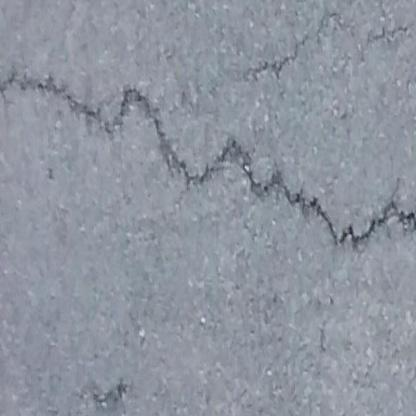Cracks: (0, 64, 416, 271), (242, 7, 345, 82)
